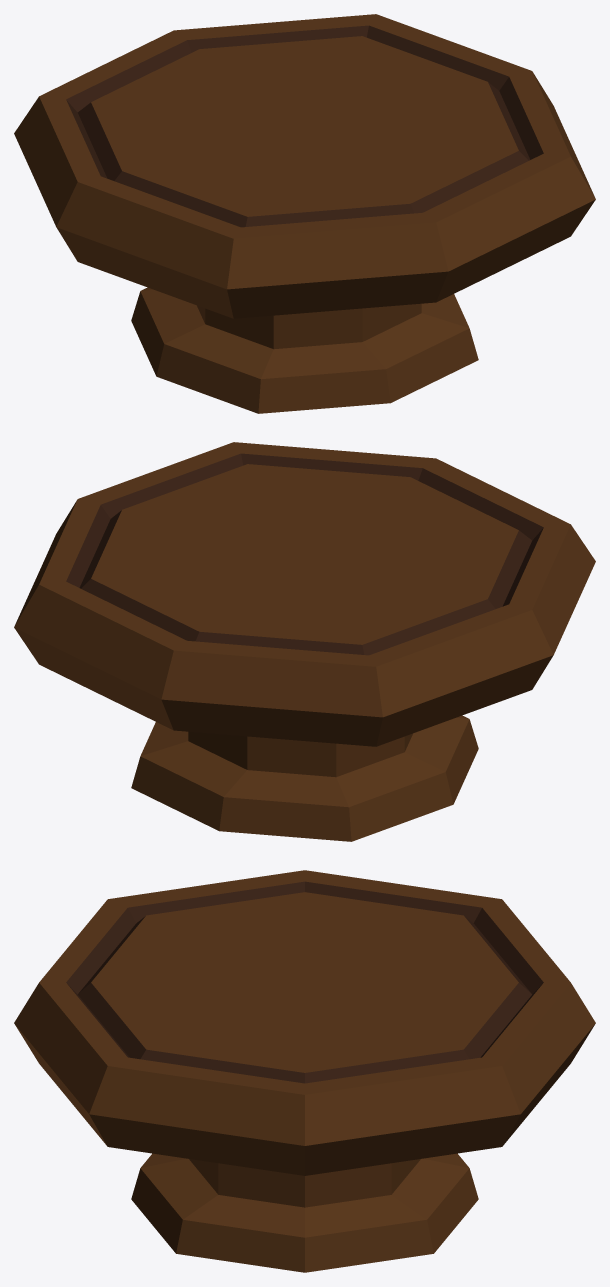
The model's file is RoundPlateu.fbx.
The picture shows the model from 3 angles, top to bottom: view 1: azimuth 30°, elevation 25°; view 2: azimuth 150°, elevation 25°; view 3: azimuth 270°, elevation 25°; orthographic projection.
Parts seen in each view (by area): view 1: RoundWoodPlateau_LOD0; view 2: RoundWoodPlateau_LOD0; view 3: RoundWoodPlateau_LOD0.
Boxes of the visible parts, box(x1,y1,x2,y2) form: RoundWoodPlateau_LOD0: box(14, 14, 595, 413); RoundWoodPlateau_LOD0: box(14, 442, 595, 841); RoundWoodPlateau_LOD0: box(14, 870, 595, 1272).
Size of the model in its own units: 295 by 121 by 295.
